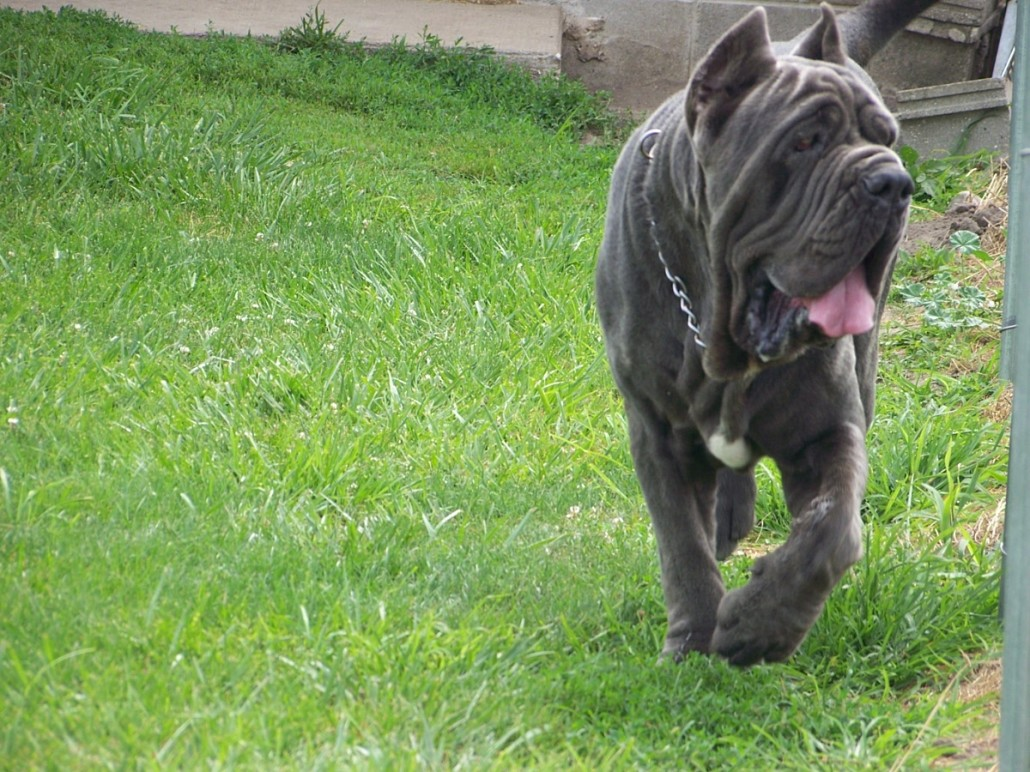neapolitan_mastiff: (590, 0, 915, 672)
